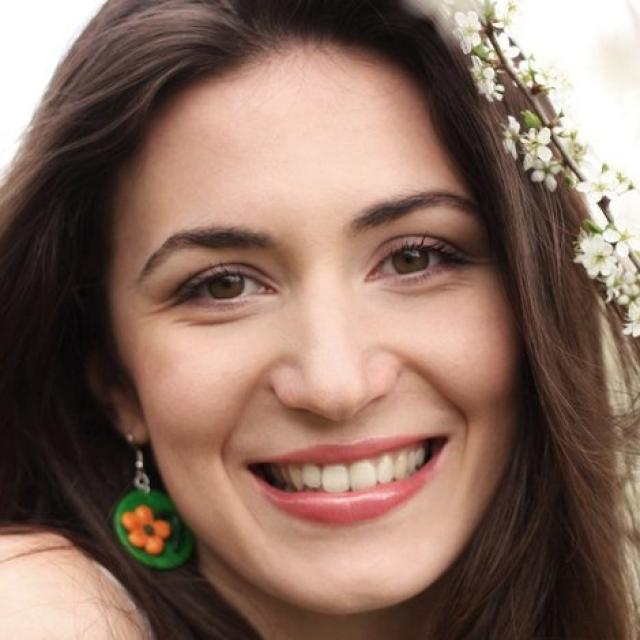Normal: (106, 41, 528, 618)
